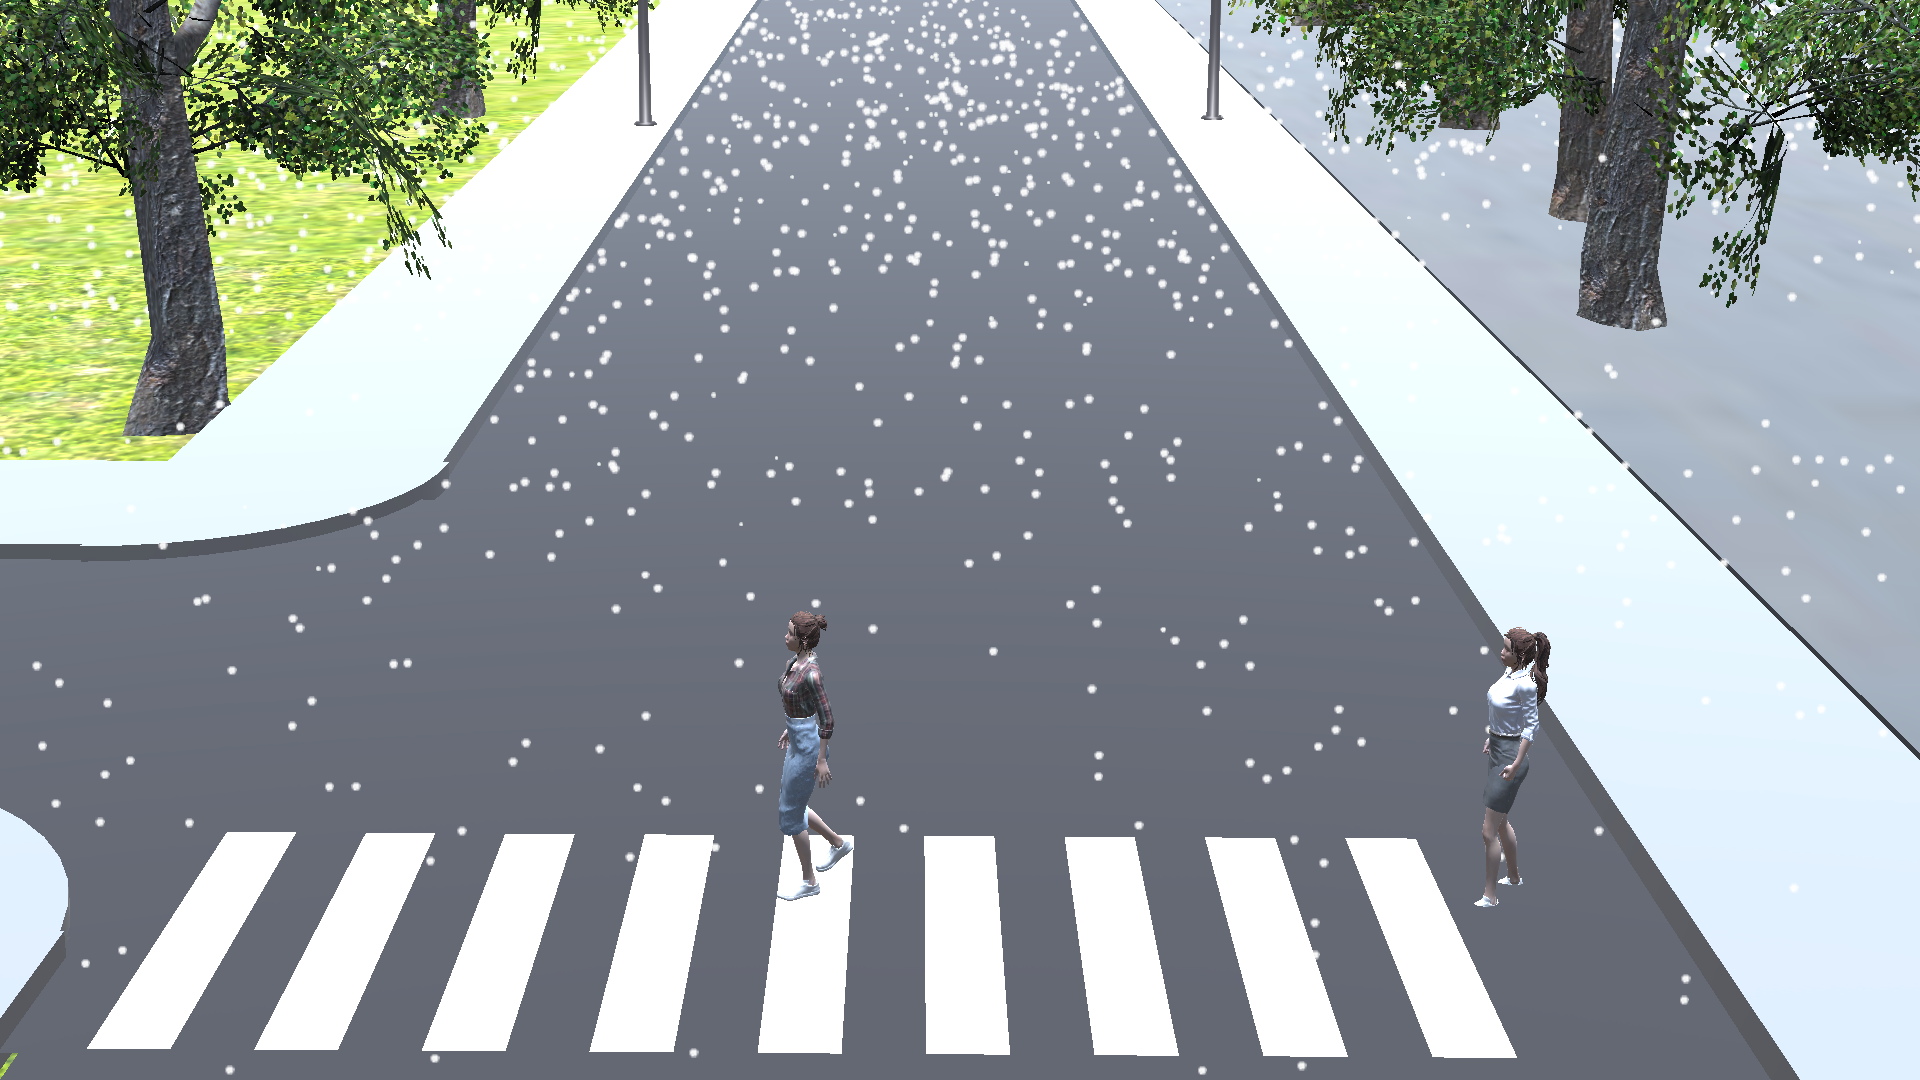pedestrian: (750, 598, 867, 901), (1465, 615, 1560, 916)
